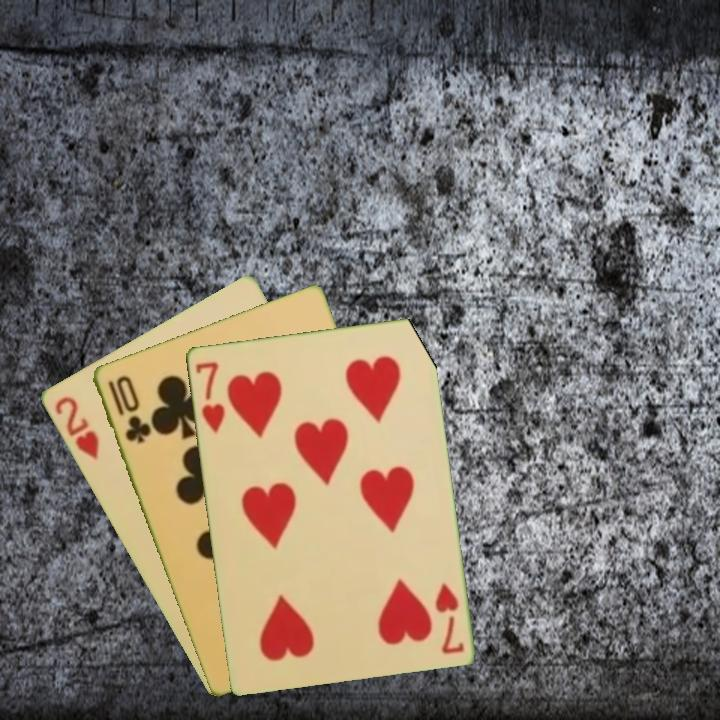10c: (103, 372, 153, 446)
2h: (50, 392, 102, 463)
7h: (191, 357, 228, 436), (431, 579, 467, 657)
